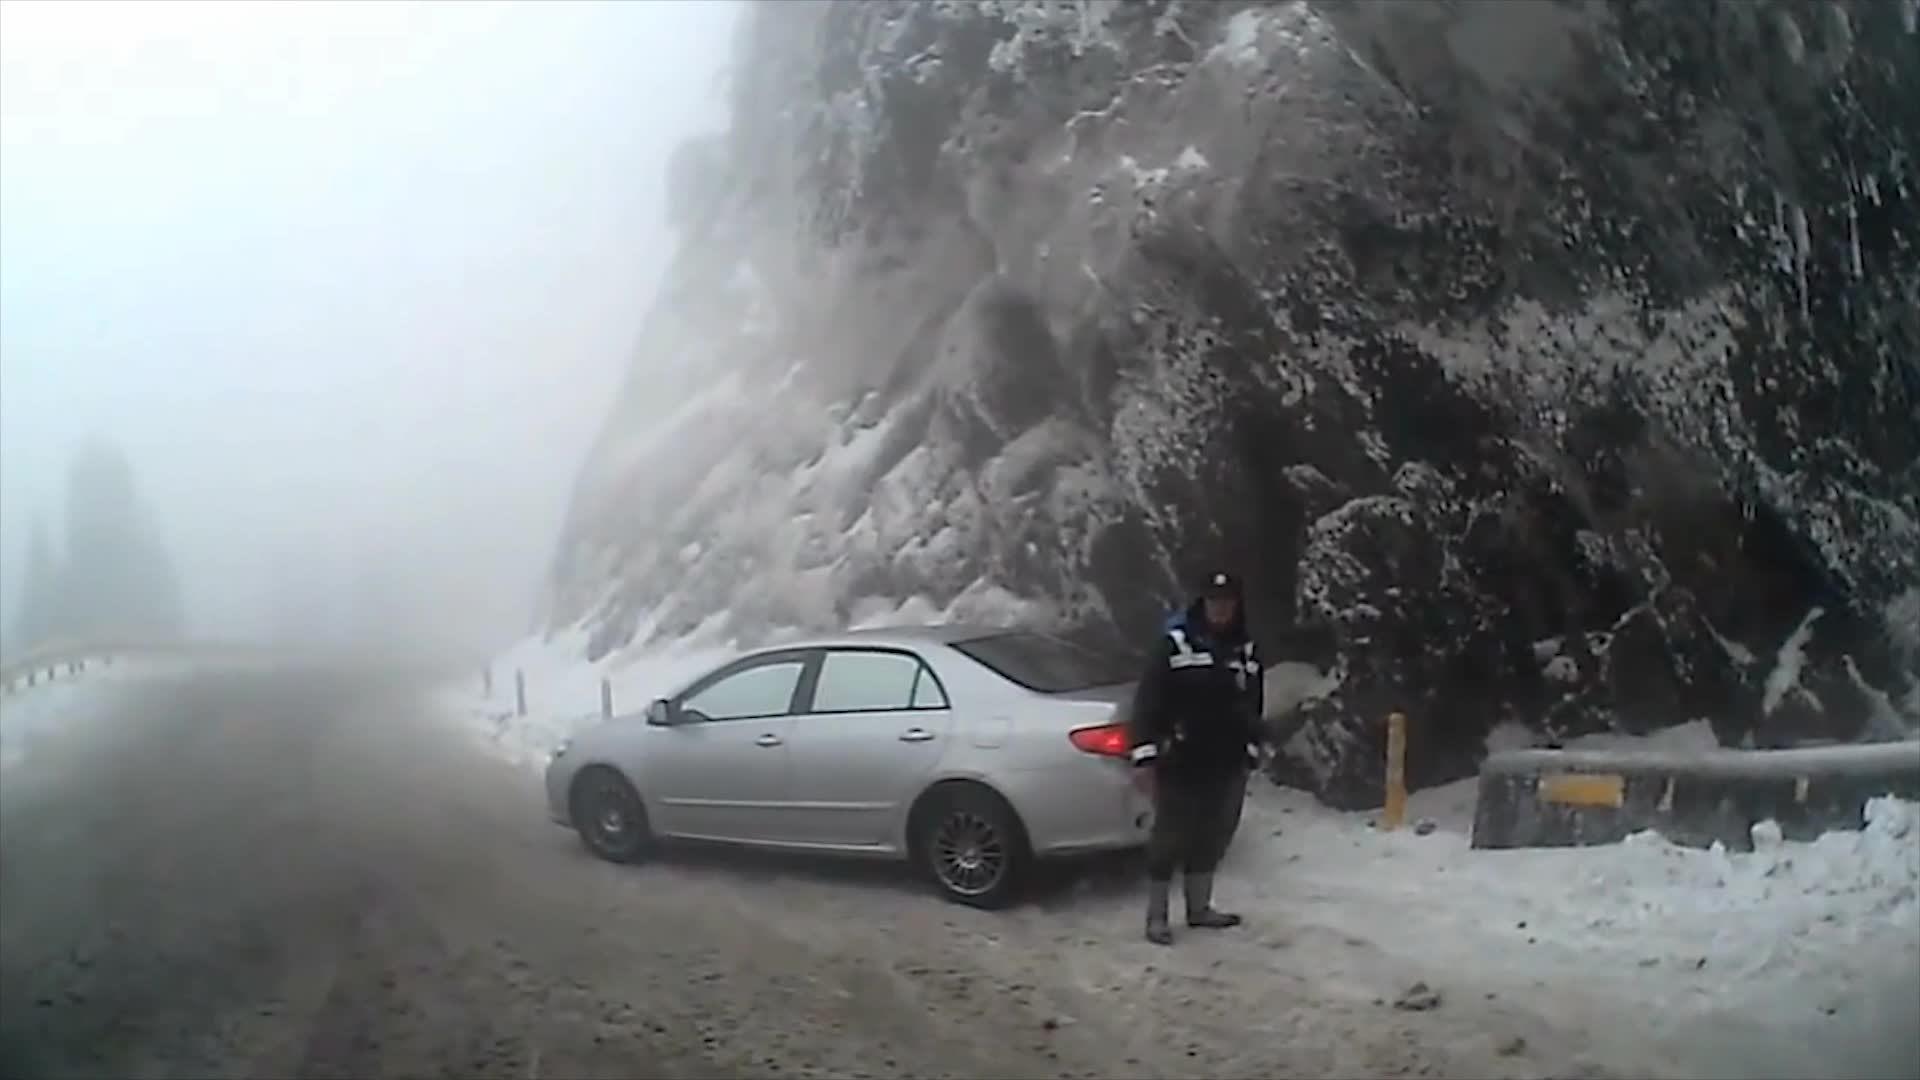pedestrian: (1126, 569, 1265, 944)
vehicle: (542, 621, 1250, 908)
